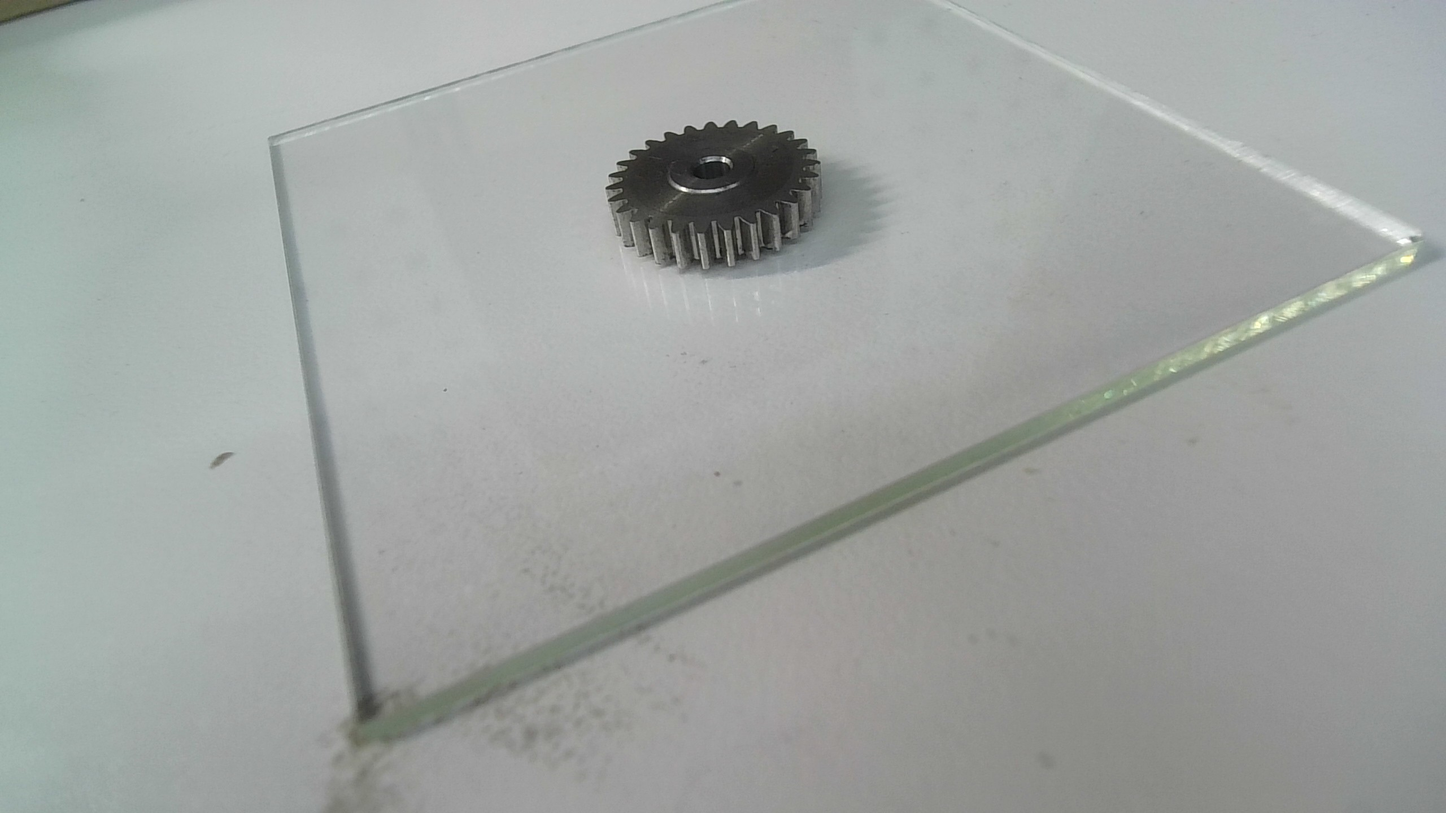gear: (606, 120, 830, 266)
